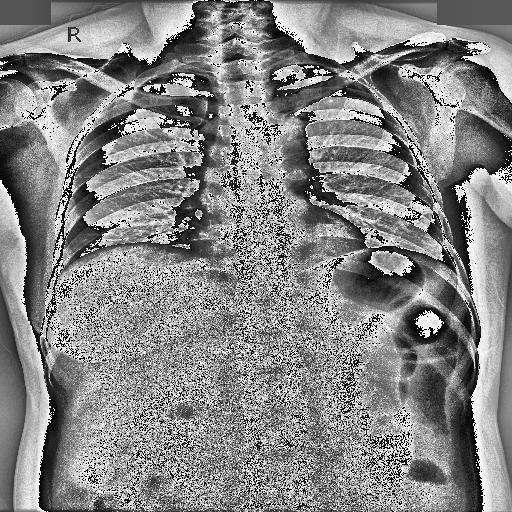0- Aortic enlargement: (250, 112, 310, 166), (255, 112, 310, 160), (266, 114, 310, 156)
13- Pulmonary fibrosis: (102, 237, 128, 242), (87, 244, 105, 250)
